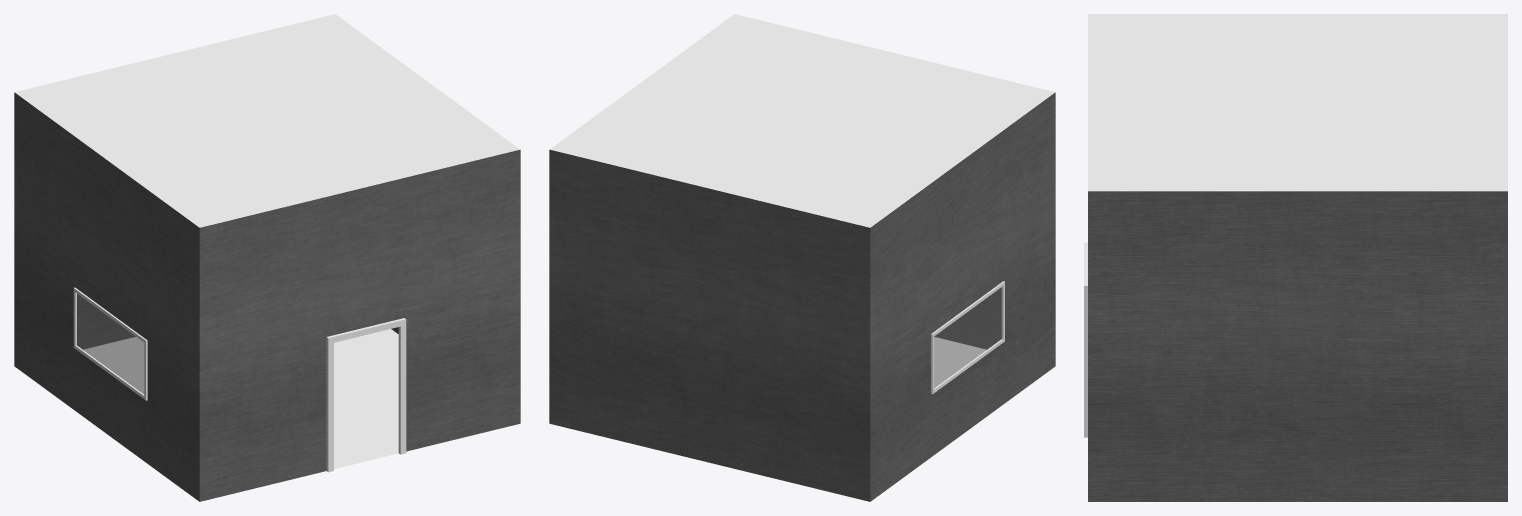
The model's file is Без названия 1.fbx.
3 renders of one model, left to right at view 1: azimuth 30°, elevation 25°; view 2: azimuth 150°, elevation 25°; view 3: azimuth 270°, elevation 25°, orthographic. The views are drawn at different scales.
Visible parts, largest first — view 1: Model; view 2: Model; view 3: Model.
Boxes of the visible parts, x1,y1,x2,y2 form: Model: (14, 14, 520, 501); Model: (549, 14, 1055, 501); Model: (1084, 14, 1507, 501).
Size of the model in its own units: 2.08 by 1.69 by 2.09.
